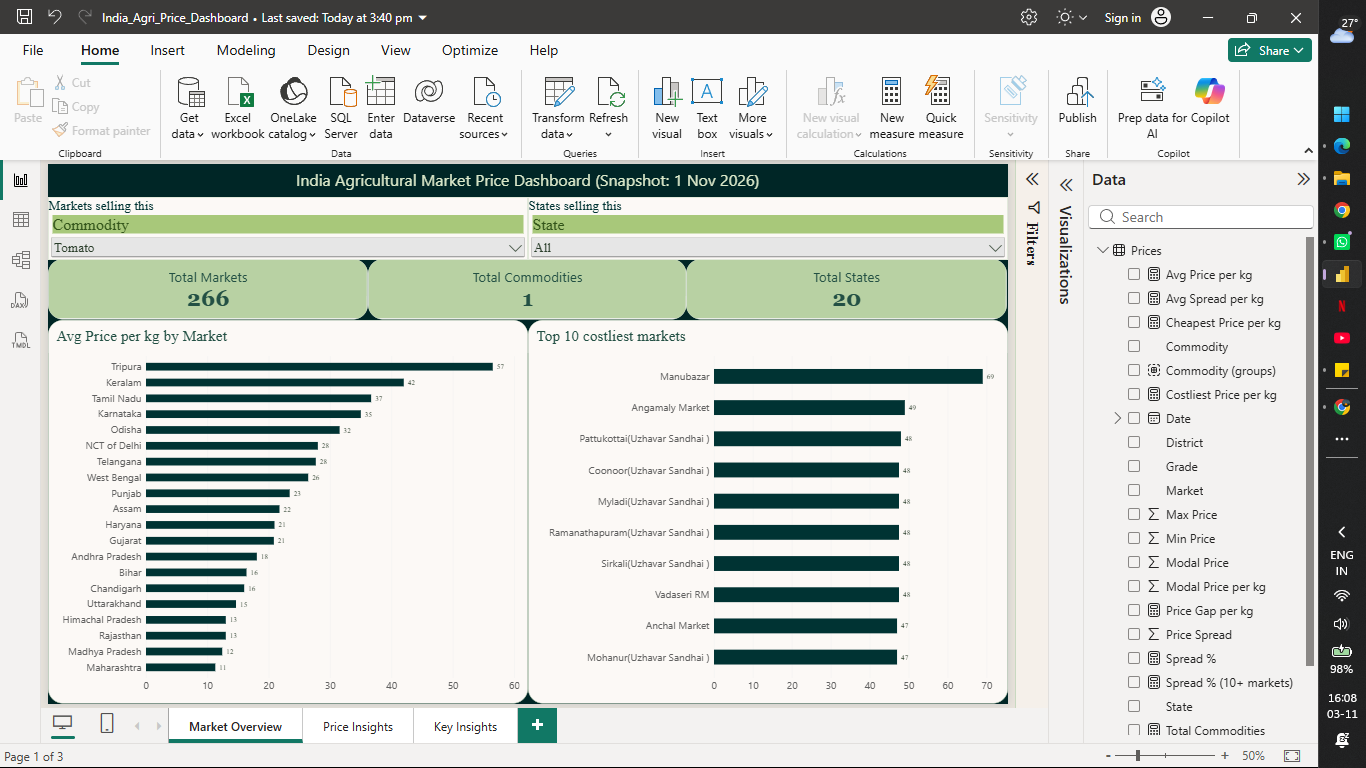

The page's visual inventory and layout, read from the dashboard file:
{"tool":"powerbi","page":{"name":"Market Overview","canvas":[1920,1080],"ordinal":0},"visuals":[{"type":"cardVisual","fields":{"Data":["Prices.Total Markets"]},"box":[0,190.7,639.5,120.9],"z":0},{"type":"cardVisual","fields":{"Data":["Prices.Total Commodities"]},"box":[639.5,190.7,637.2,120.9],"z":1000},{"type":"textbox","box":[0,0,1918.6,65.1],"z":2000},{"type":"cardVisual","fields":{"Data":["Prices.Total States"]},"box":[1276.7,190.7,641.9,120.9],"z":3000},{"type":"slicer","title":"Markets selling this","fields":{"Values":["Prices.Commodity"]},"box":[0,65.1,960.5,125.6],"z":4000},{"type":"slicer","title":"States selling this","fields":{"Values":["Prices.State"]},"box":[960.5,65.1,960.5,125.6],"z":5000},{"type":"clusteredBarChart","title":"Avg Price per kg by Market","fields":{"Category":["Prices.State"],"Y":["Prices.Avg Price per kg"]},"box":[0,311.6,960.5,767.4],"z":6000},{"type":"clusteredBarChart","title":"Top 10 costliest markets","fields":{"Category":["Prices.Market"],"Y":["Prices.Avg Price per kg"]},"box":[960.5,311.6,960.5,767.4],"z":7000}]}

Visuals, with their boxes on the page's 1920x1080 design canvas (x1, y1, x2, y2). These are canvas units, not pixel positions in the 1366x768 screenshot, which may show the page scaled, cropped or inside an application window:
cardVisual - Prices.Total Markets: 0,191,640,312
cardVisual - Prices.Total Commodities: 640,191,1277,312
textbox: 0,0,1919,65
cardVisual - Prices.Total States: 1277,191,1919,312
"Markets selling this" slicer: 0,65,960,191
"States selling this" slicer: 960,65,1921,191
"Avg Price per kg by Market" clusteredBarChart: 0,312,960,1079
"Top 10 costliest markets" clusteredBarChart: 960,312,1921,1079
